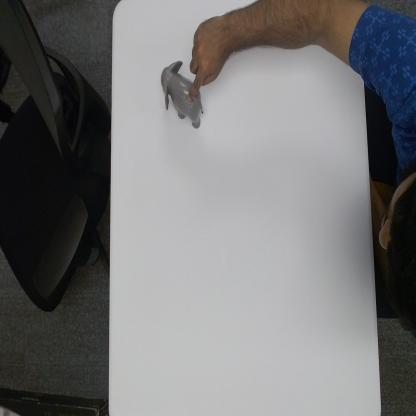Arm: (228, 0, 350, 60)
Elephant: (160, 58, 205, 132)
Hand: (186, 14, 228, 103)
